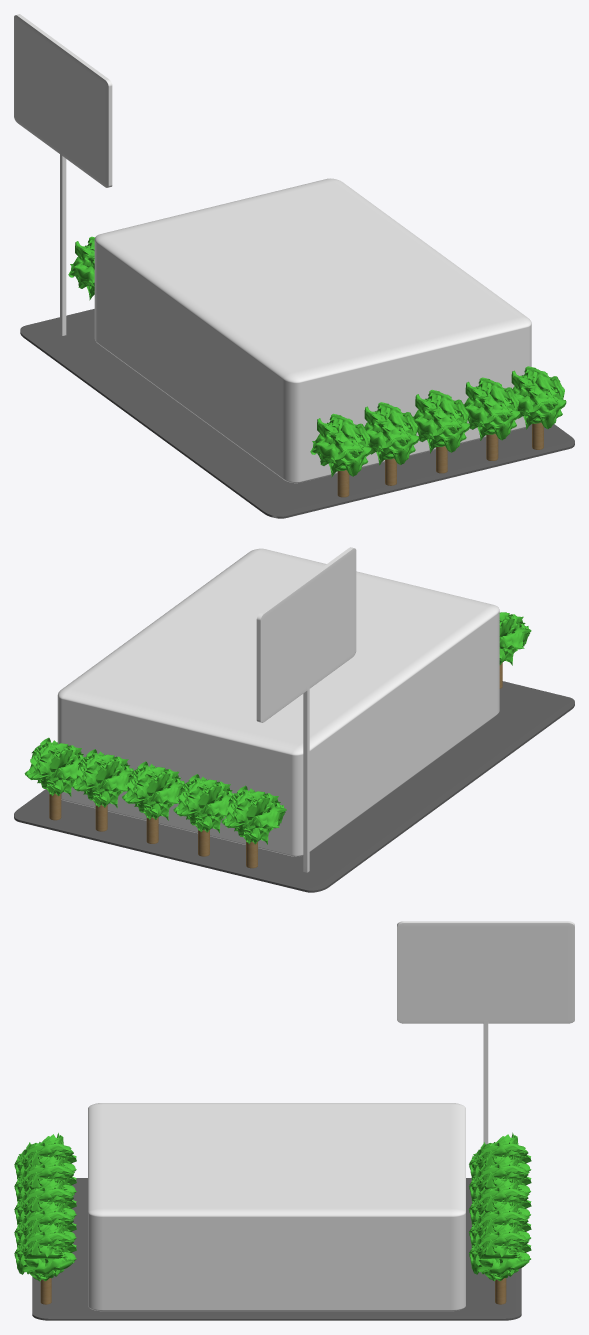
File: mall1.glb
3 renders of one model, top to bottom at view 1: azimuth 30°, elevation 25°; view 2: azimuth 150°, elevation 25°; view 3: azimuth 270°, elevation 25°, orthographic. The views are drawn at different scales.
Visible parts, largest first — view 1: house, land, sign, Torus 3 (×5), Torus 2 (×5), Torus (×5), pillar; view 2: house, land, sign, Torus 3 (×6), Torus 2 (×5), Torus (×5), Torus 1 (×5), pillar; view 3: house, sign, land, Torus 2 (×10), Torus 3 (×2), Torus 1 (×2), Torus (×2), pillar.
Boxes of the visible parts, left/top/right/bottom form: house: left=94, top=178, right=531, bottom=483; land: left=20, top=309, right=574, bottom=518; sign: left=14, top=14, right=112, bottom=187; Torus 3 (×5): left=310, top=386, right=562, bottom=476; Torus 2 (×5): left=327, top=366, right=566, bottom=477; Torus (×5): left=317, top=370, right=559, bottom=459; pillar: left=60, top=150, right=66, bottom=335; house: left=57, top=548, right=499, bottom=856; land: left=14, top=681, right=574, bottom=892; sign: left=256, top=547, right=356, bottom=722; Torus 3 (×6): left=24, top=623, right=531, bottom=834; Torus 2 (×5): left=34, top=740, right=273, bottom=844; Torus (×5): left=37, top=745, right=280, bottom=839; Torus 1 (×5): left=30, top=737, right=271, bottom=844; pillar: left=303, top=685, right=309, bottom=872; house: left=88, top=1103, right=465, bottom=1311; sign: left=397, top=921, right=574, bottom=1023; land: left=32, top=1178, right=521, bottom=1320; Torus 2 (×10): left=18, top=1142, right=531, bottom=1276; Torus 3 (×2): left=14, top=1244, right=530, bottom=1274; Torus 1 (×2): left=14, top=1239, right=522, bottom=1263; Torus (×2): left=15, top=1222, right=518, bottom=1281; pillar: left=483, top=1020, right=488, bottom=1144.
Size of the model in its own units: 1.5 by 1.35 by 2.52.
54 materials, 10 textured.
